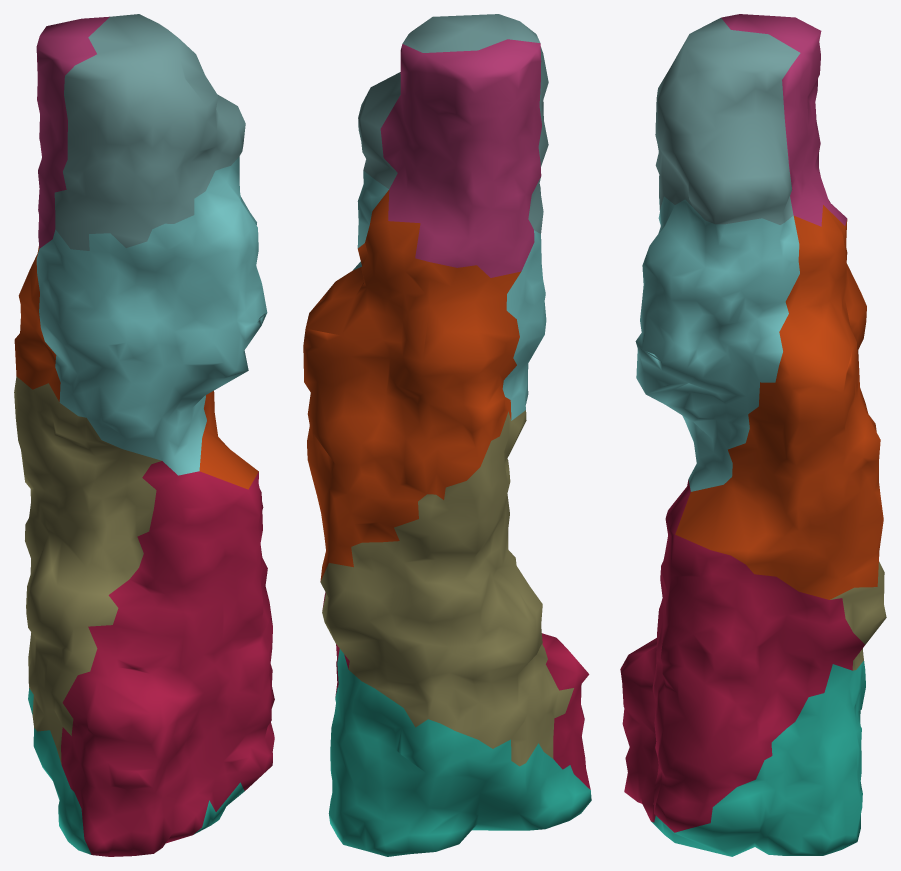
File: Pillar_low.fbx
The picture shows the model from 3 angles, left to right: view 1: azimuth 30°, elevation 25°; view 2: azimuth 150°, elevation 25°; view 3: azimuth 270°, elevation 25°; orthographic projection. The views are drawn at different scales.
Parts seen in each view (by area): view 1: attribwrangle4; view 2: attribwrangle4; view 3: attribwrangle4.
Part boxes in pixels (left/top/right/bottom): attribwrangle4: left=14, top=14, right=274, bottom=856; attribwrangle4: left=303, top=14, right=591, bottom=856; attribwrangle4: left=620, top=14, right=886, bottom=856.
Bounding box in the file's own units: 5.38 × 18.61 × 5.81.
